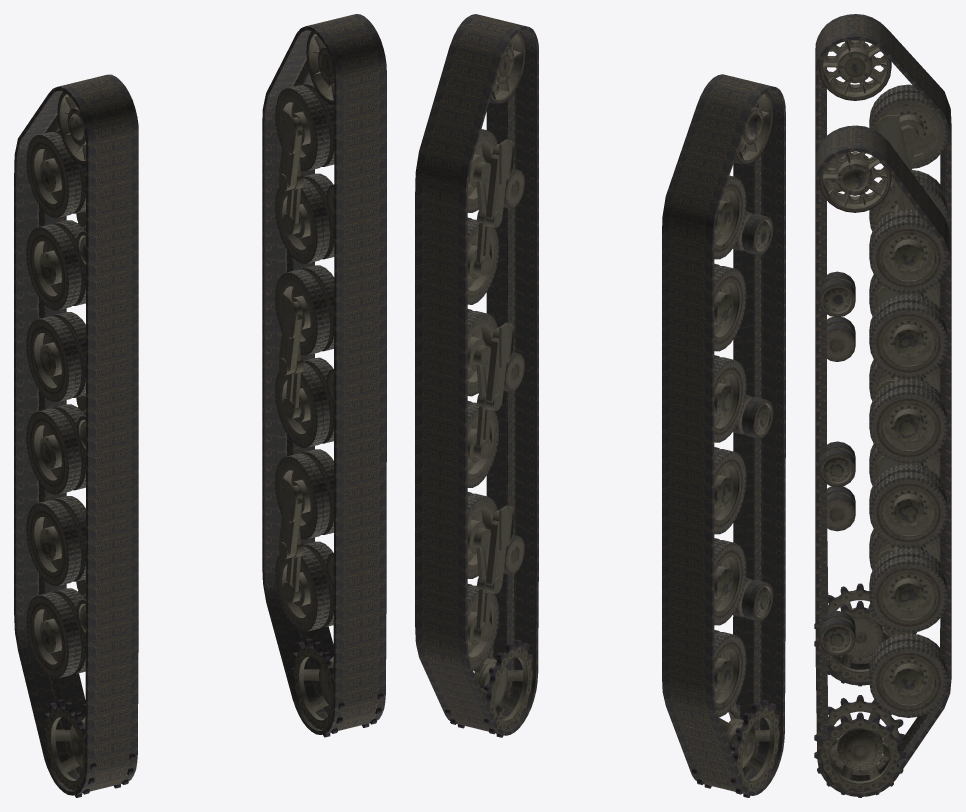
File: Chassis.glb
3 views of the same model, side by side, from view 1: azimuth 30°, elevation 25°; view 2: azimuth 150°, elevation 25°; view 3: azimuth 270°, elevation 25° (orthographic). The views are drawn at different scales.
Parts seen in each view (by area): view 1: set_3_group_0, set_2_group_0, set_0_group_0, set_1_group_0; view 2: set_3_group_0, set_2_group_0, set_0_group_0, set_1_group_0; view 3: set_0_group_0, set_1_group_0, set_2_group_0, set_3_group_0.
Part boxes in pixels (x1,y1,x2,y2): set_3_group_0: [14, 74, 138, 795]; set_2_group_0: [262, 14, 386, 734]; set_0_group_0: [275, 31, 383, 737]; set_1_group_0: [26, 92, 135, 797]; set_3_group_0: [662, 74, 785, 795]; set_2_group_0: [415, 14, 538, 735]; set_0_group_0: [445, 31, 532, 737]; set_1_group_0: [692, 91, 779, 797]; set_0_group_0: [814, 152, 947, 797]; set_1_group_0: [814, 40, 947, 686]; set_2_group_0: [815, 125, 951, 796]; set_3_group_0: [815, 14, 951, 685].
Bounding box in the file's own units: 2.45 × 5.54 × 1.06.
Materials: 4 (4 with a texture image).
